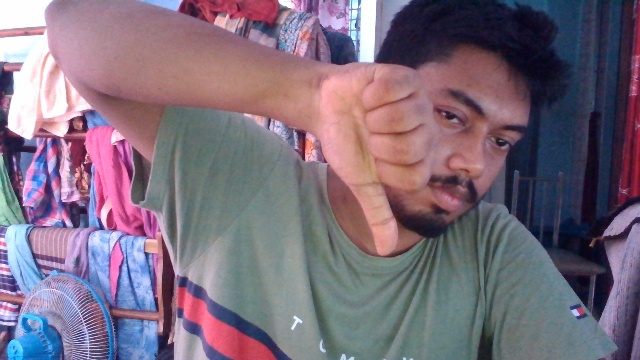no: (287, 41, 438, 263)
